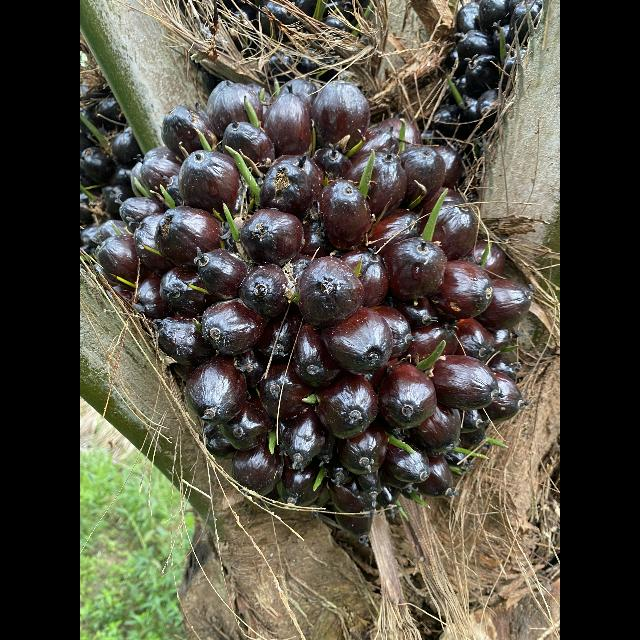Unripe: (90, 67, 524, 508)
